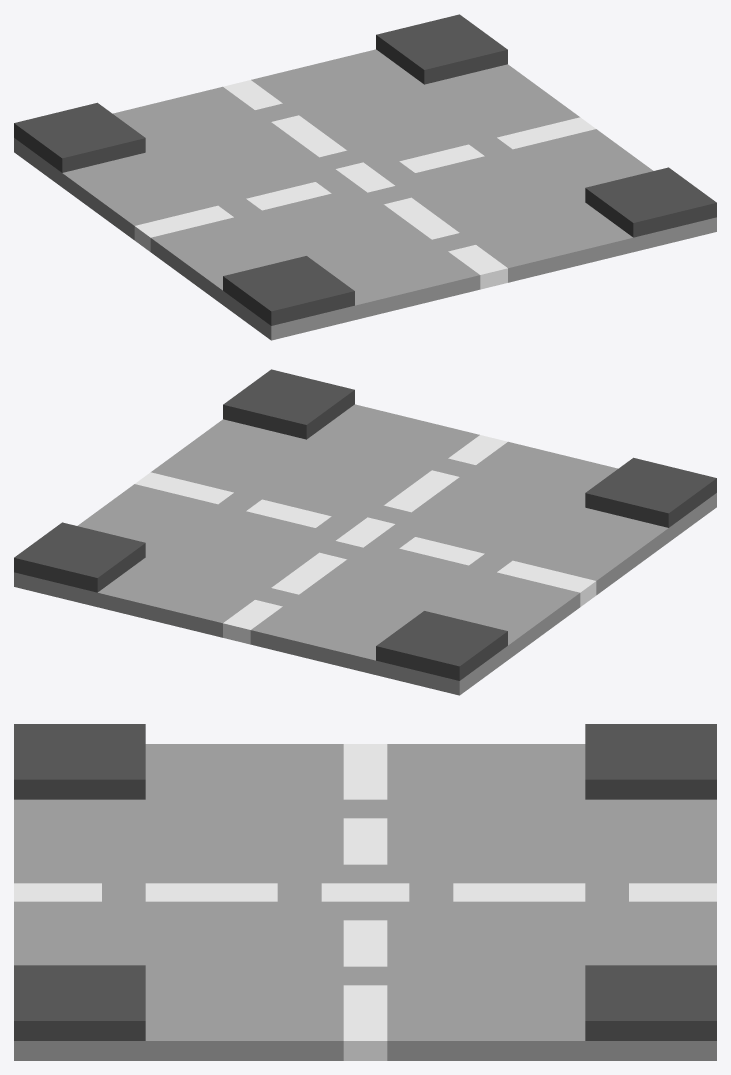
Rendered from town-3.obj.
The picture shows the model from 3 angles, top to bottom: view 1: azimuth 30°, elevation 25°; view 2: azimuth 150°, elevation 25°; view 3: azimuth 270°, elevation 25°; orthographic projection. The views are drawn at different scales.
Bounding box in the file's own units: 3.2 × 0.2 × 3.2.
Materials: 1 (1 with a texture image).
